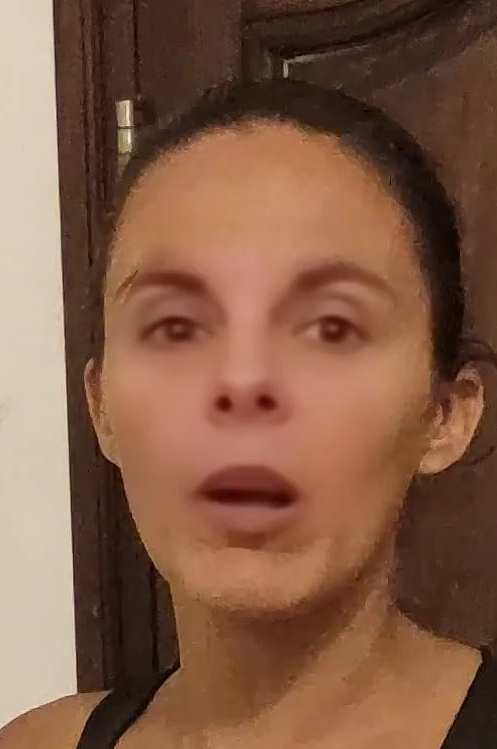eb_f: (108, 247, 406, 359)
